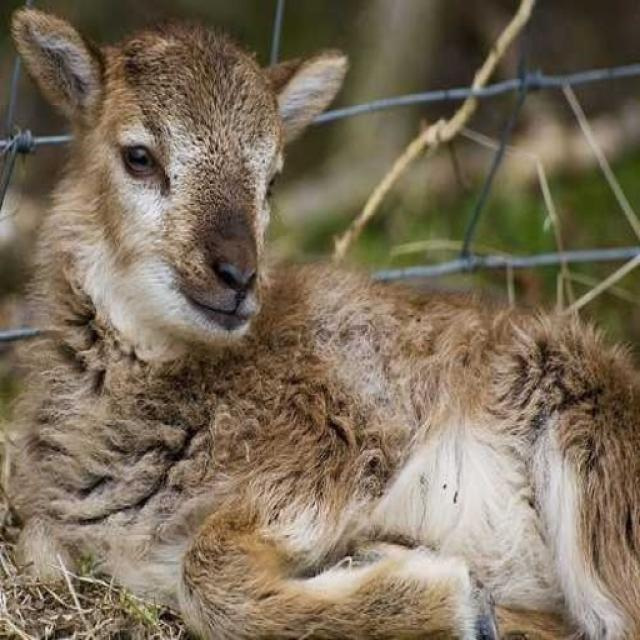pig: (240, 235, 640, 640), (27, 0, 302, 471)
